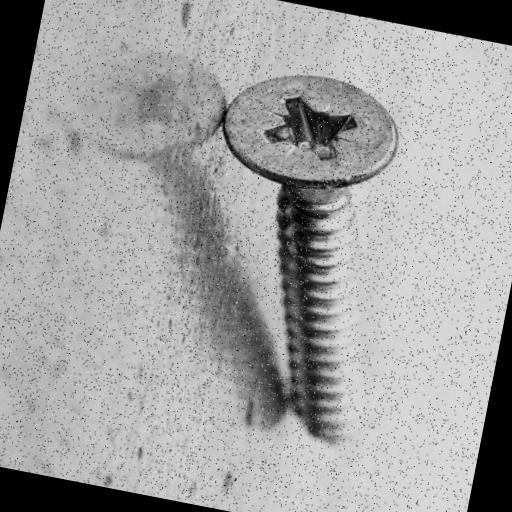Pozidriv: (207, 38, 412, 216)
